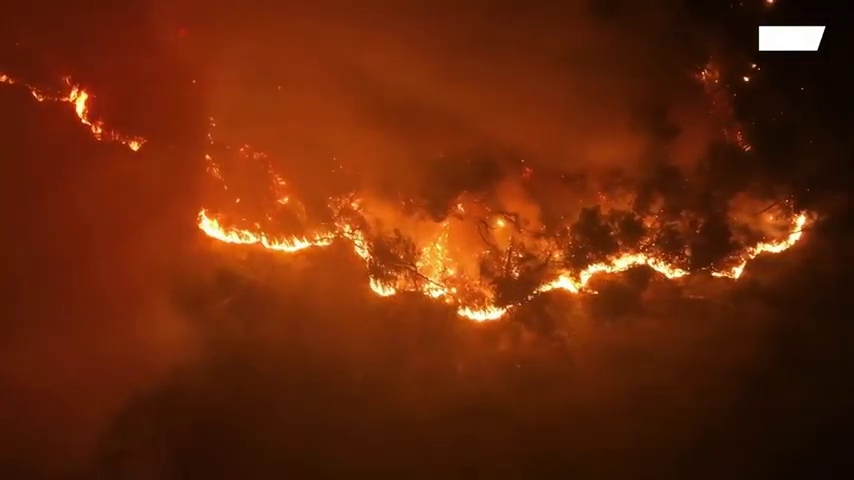forest_fire: (0, 73, 146, 151), (197, 199, 374, 263), (534, 239, 688, 292), (371, 223, 464, 302), (711, 213, 807, 278), (457, 304, 509, 320)
